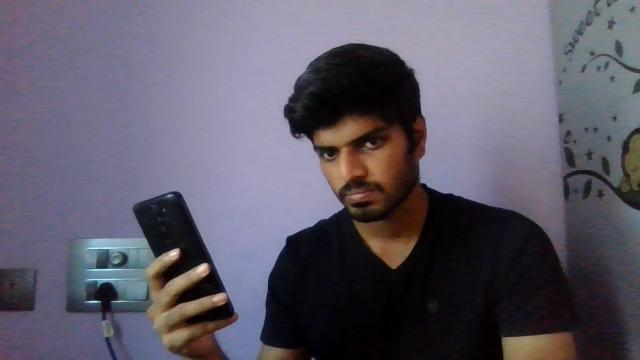PhoneUse: (130, 187, 234, 327)
SafeDriving: (352, 126, 391, 158), (312, 143, 345, 164)
